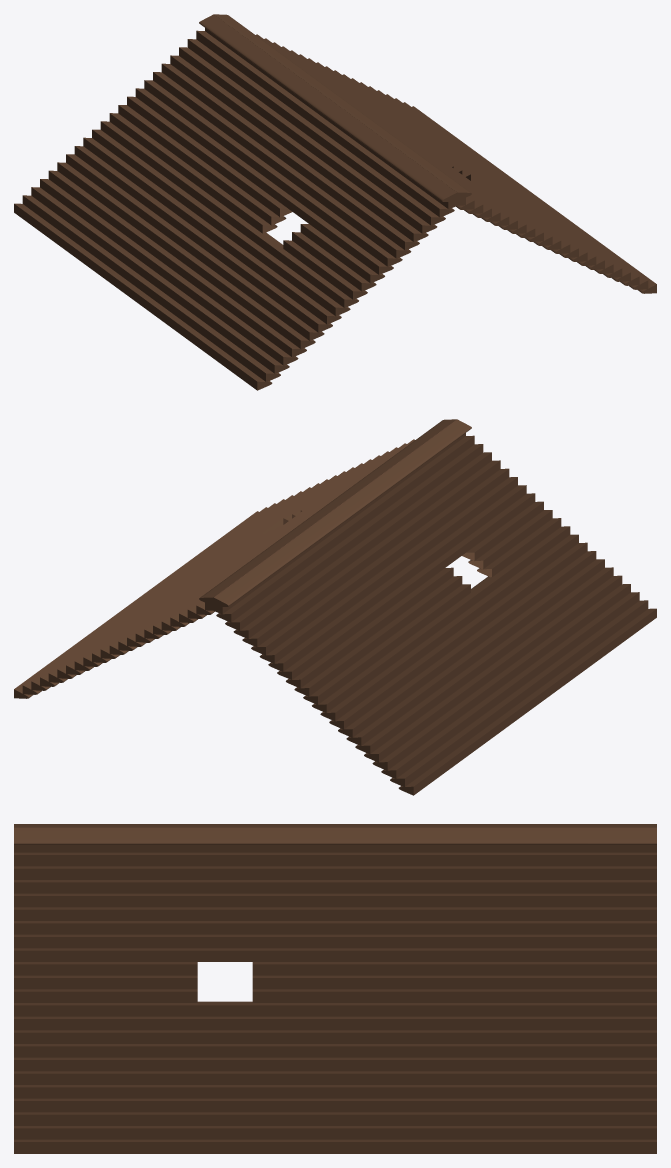
Rendered from TRIANGULATED ROOF PLANKS.fbx.
3 views of the same model, one above another, from view 1: azimuth 30°, elevation 25°; view 2: azimuth 150°, elevation 25°; view 3: azimuth 270°, elevation 25° (orthographic). The views are drawn at different scales.
Parts seen in each view (by area): view 1: triangle planks; view 2: triangle planks; view 3: triangle planks.
Boxes of the visible parts, x1,y1,x2,y2 form: triangle planks: (14,14,656,390); triangle planks: (14,419,656,795); triangle planks: (14,824,656,1153).
Bounding box in the file's own units: 569 × 203 × 600.
